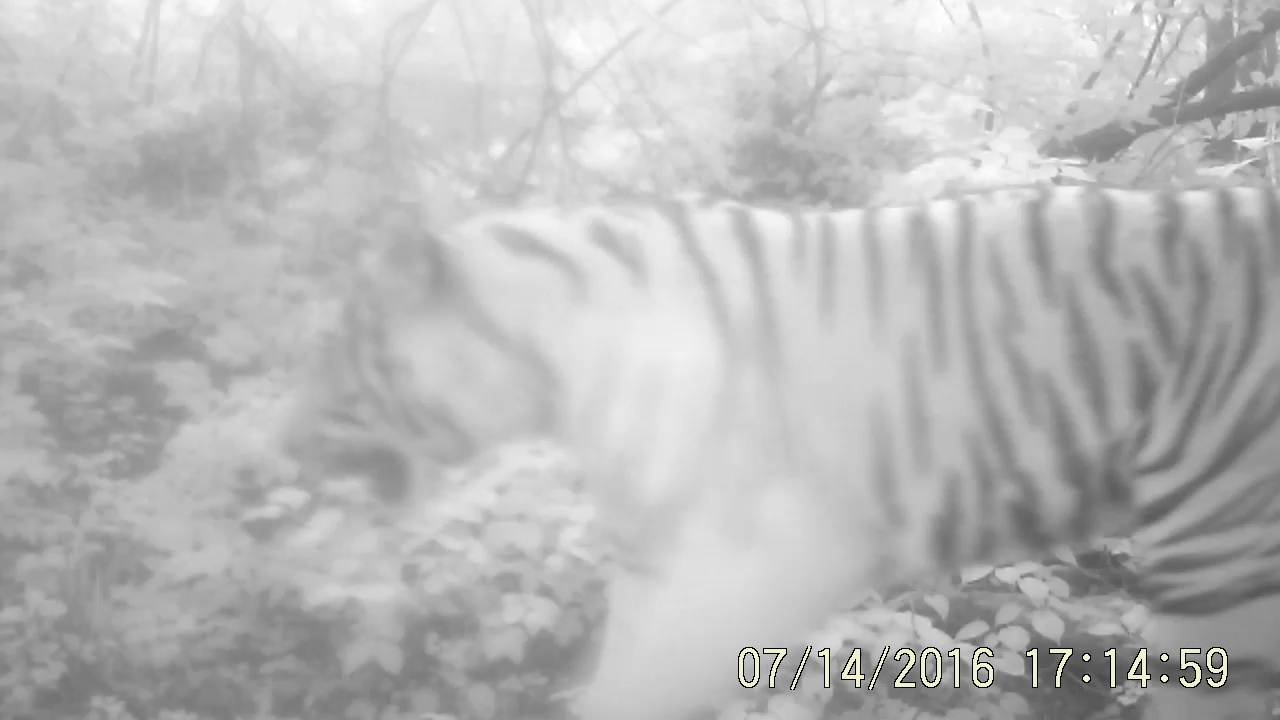Tiger: (258, 116, 1280, 720)
